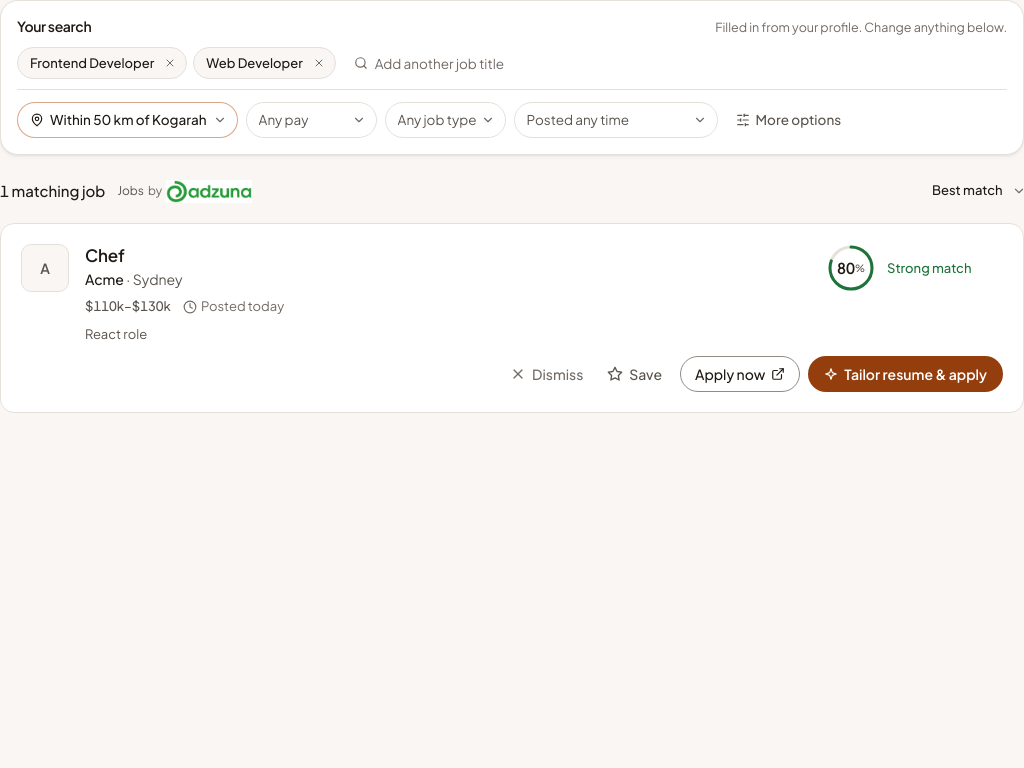
Test: MatchesView › closes the Where panel from its own pill, and keeps it open with the edits if saving fails
This screenshot has width=1024, height=768.
What coordinates should you click on to do the following:
click the button with aria-label "Where: Within 50 km of Kogarah"
I would click on:
 (127, 120)
Its box is x1=17 y1=102 x2=238 y2=138.
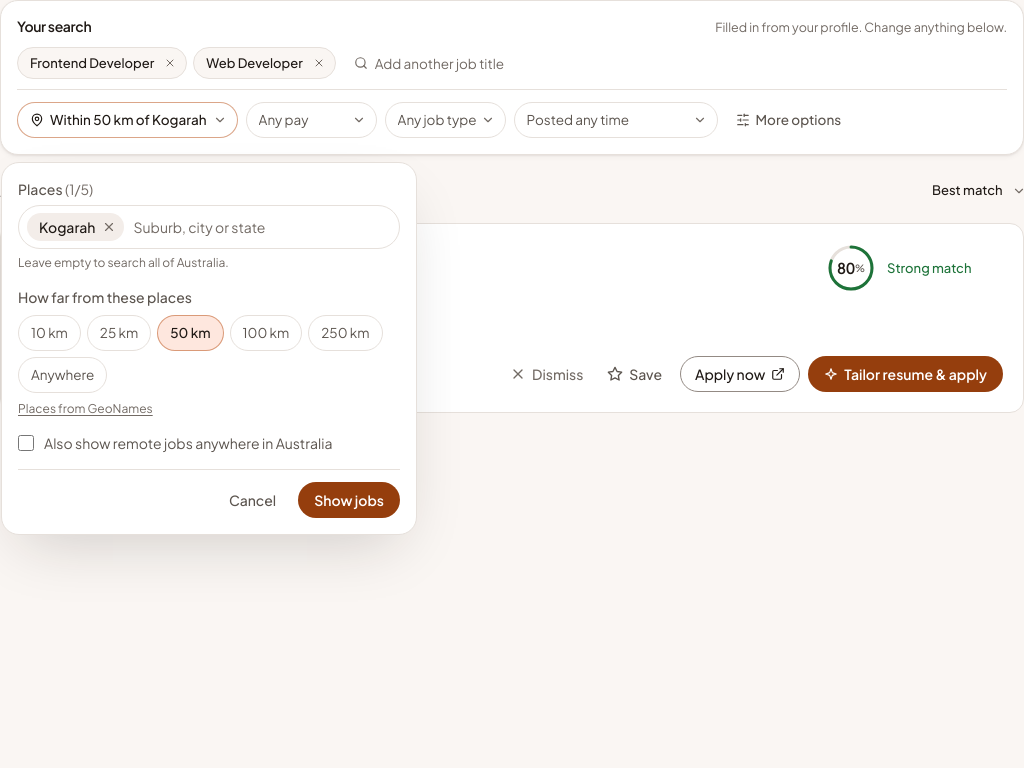
Expected: the dialog named "Where to look" is shown, x1=1 y1=162 x2=417 y2=535
What coordinates should you click on to do the following:
click the button with aria-label "Where: Within 50 km of Kogarah"
I would click on:
 (127, 120)
Its box is x1=17 y1=102 x2=238 y2=138.
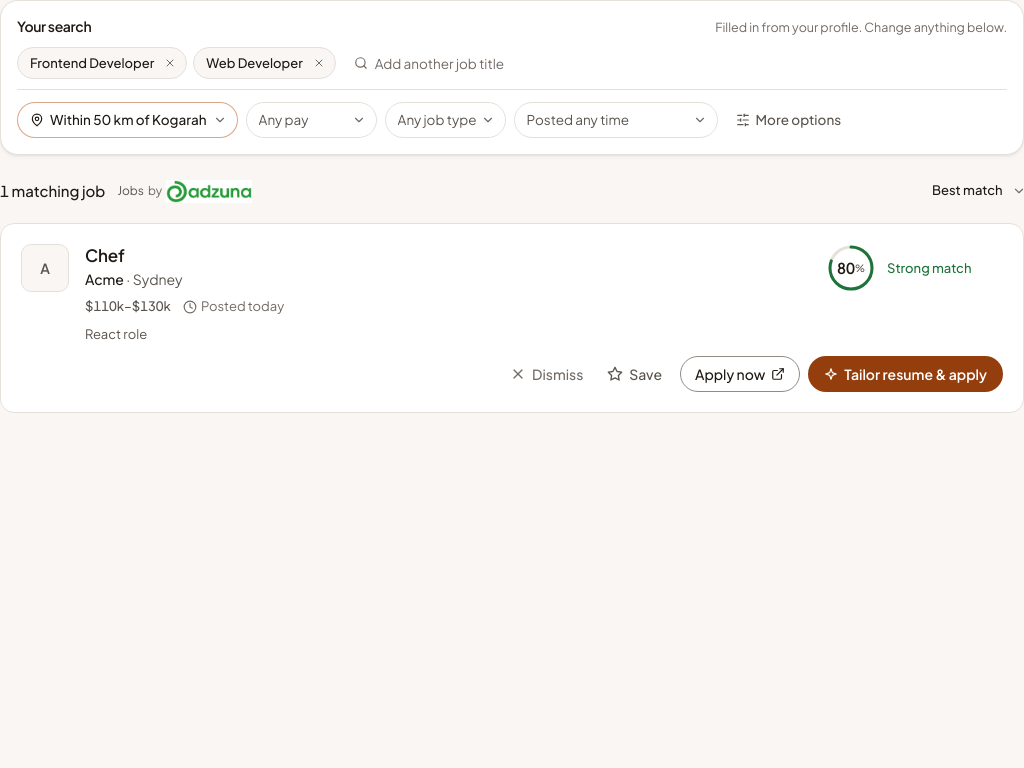
What coordinates should you click on to do the following:
click the button with aria-label "Where: Within 50 km of Kogarah"
I would click on:
 (127, 120)
Its box is x1=17 y1=102 x2=238 y2=138.
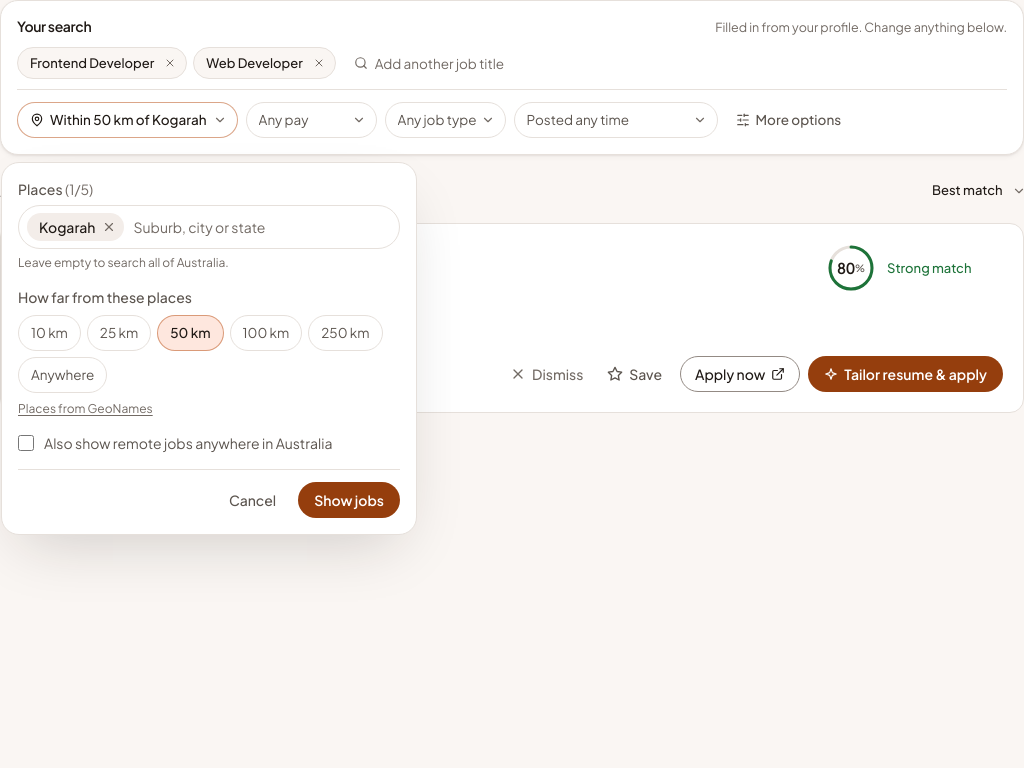
What coordinates should you click on to do the following:
click the text "25 km"
I would click on:
 (119, 333)
Its box is x1=87 y1=315 x2=151 y2=351.
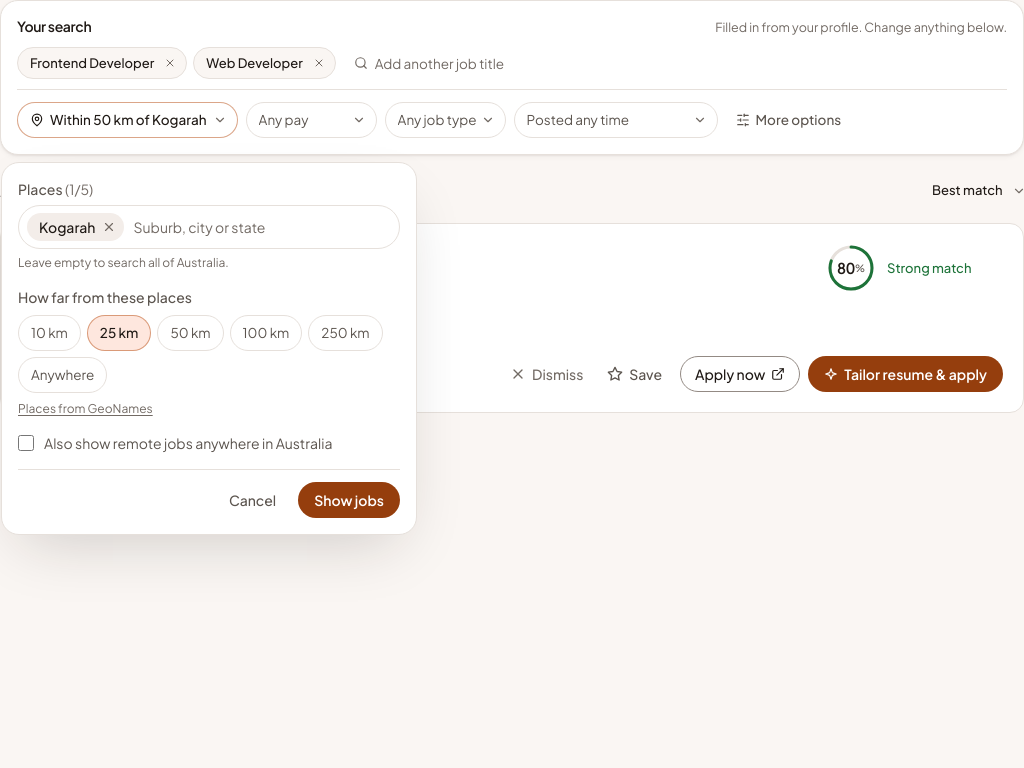
What coordinates should you click on to do the following:
click the button "Show jobs"
I would click on:
 (349, 500)
Its box is x1=298 y1=482 x2=400 y2=518.
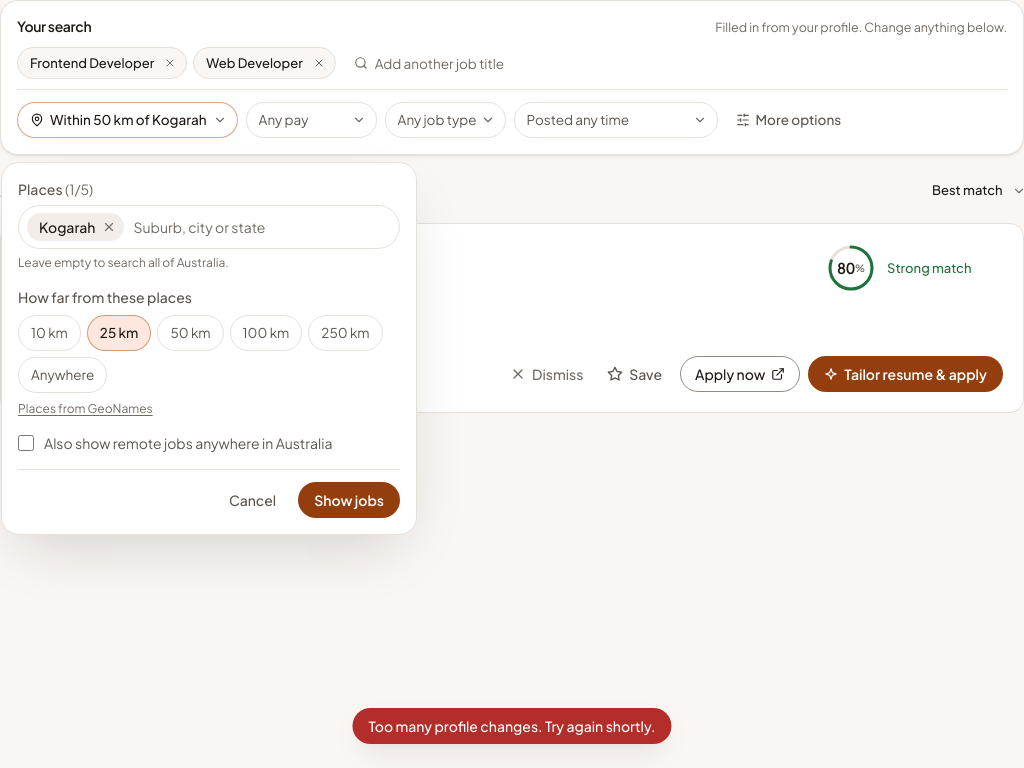
Expected: the radio button labelled "25 km" is checked, x1=87 y1=315 x2=151 y2=351
Expected: the text "Too many profile changes. Try again shortly." is shown, x1=352 y1=708 x2=672 y2=744
